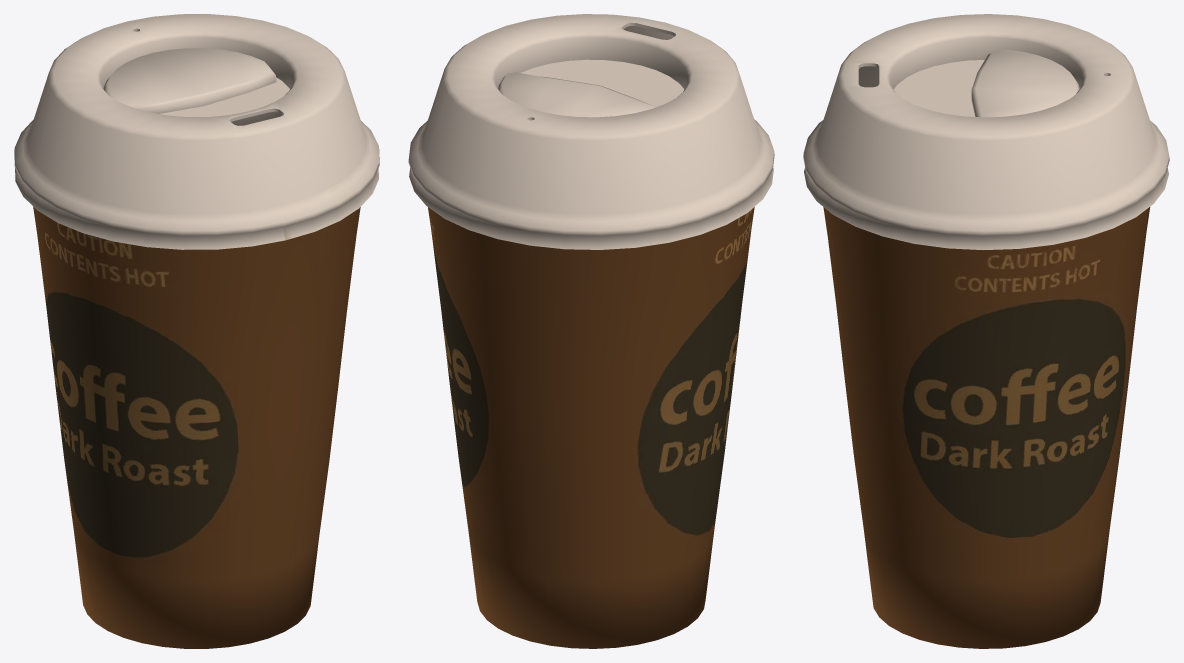
Rendered from paper_coffee_cup-transformed.glb.
The picture shows the model from 3 angles, left to right: view 1: azimuth 30°, elevation 25°; view 2: azimuth 150°, elevation 25°; view 3: azimuth 270°, elevation 25°; orthographic projection.
Visible parts, largest first — view 1: cup_cup_0, lid_lid_0; view 2: cup_cup_0, lid_lid_0; view 3: cup_cup_0, lid_lid_0.
Boxes of the visible parts, x1,y1,x2,y2 form: cup_cup_0: (33,206,360,648); lid_lid_0: (14,14,379,249); cup_cup_0: (428,207,754,648); lid_lid_0: (408,14,774,249); cup_cup_0: (823,207,1150,648); lid_lid_0: (803,14,1169,249).
Size of the model in its own units: 310 by 493 by 310.
Materials: 2 (2 with a texture image).
